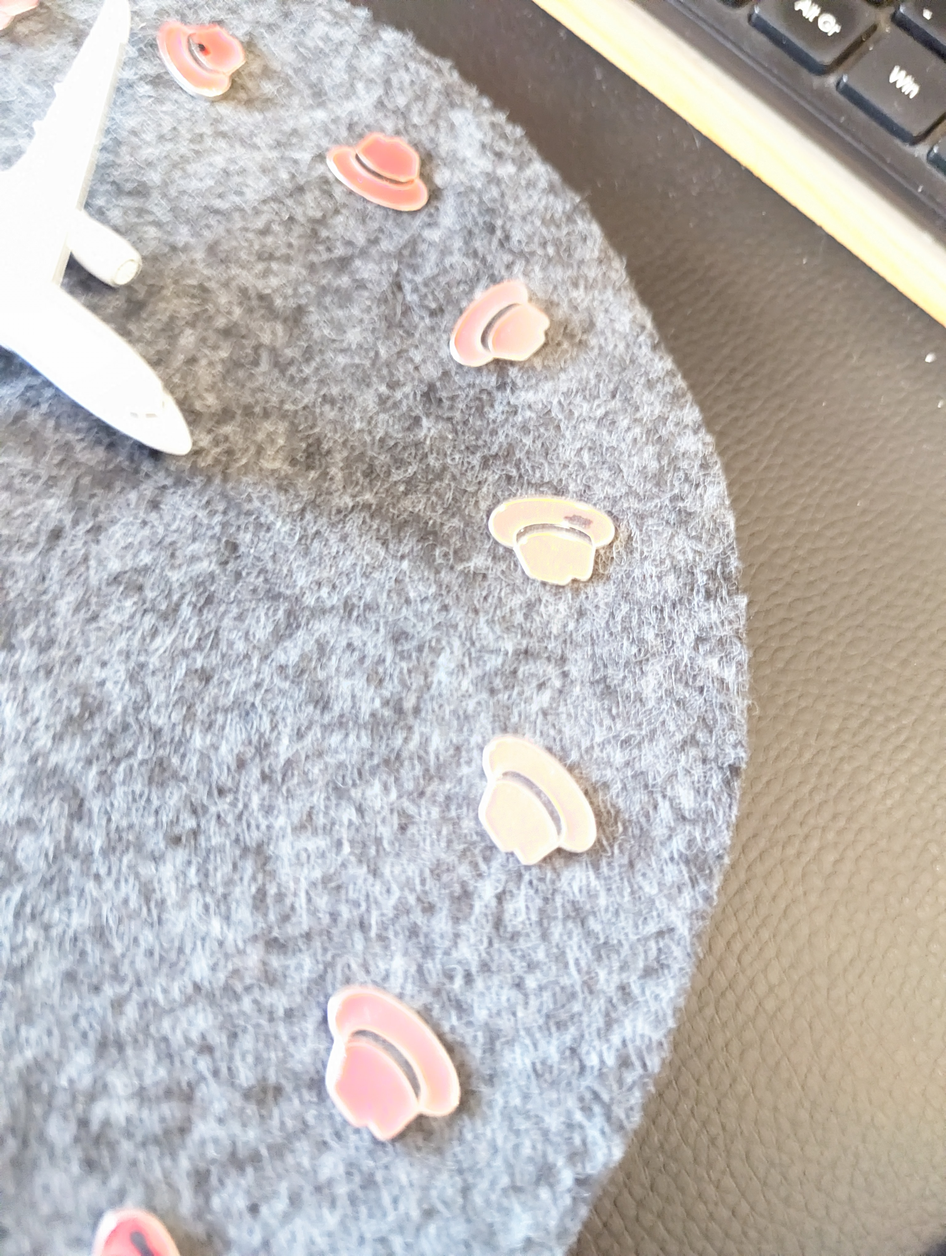Airplane: (0, 0, 222, 496)
Red-Hat: (283, 964, 510, 1194), (446, 711, 619, 879), (465, 475, 631, 610), (303, 108, 457, 232), (419, 254, 568, 378), (137, 6, 289, 115)
Scratch: (186, 20, 232, 75), (550, 499, 605, 542)
